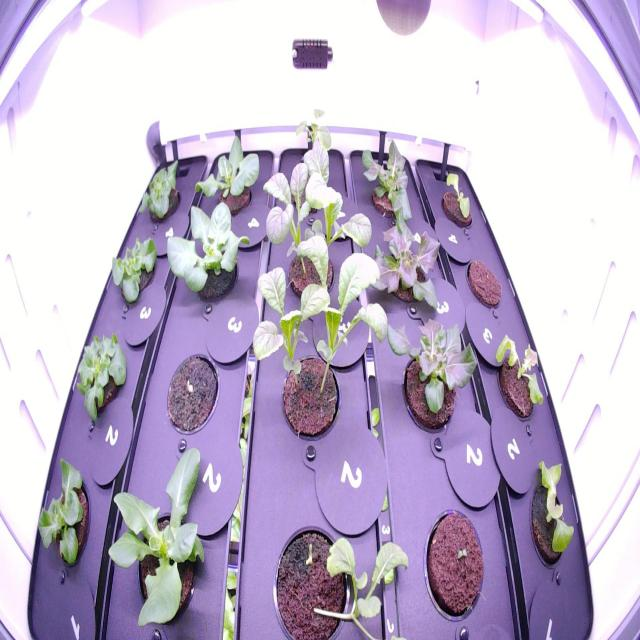germination: (418, 500, 492, 628)
pod: (160, 343, 222, 441), (461, 252, 508, 318)
young: (103, 441, 224, 633), (380, 301, 484, 445), (162, 190, 255, 317), (363, 208, 450, 320), (32, 449, 96, 577), (524, 448, 578, 582), (354, 130, 426, 230), (190, 126, 265, 220), (70, 324, 132, 431), (491, 330, 548, 425), (106, 229, 160, 310), (131, 153, 187, 227), (436, 167, 476, 234)
